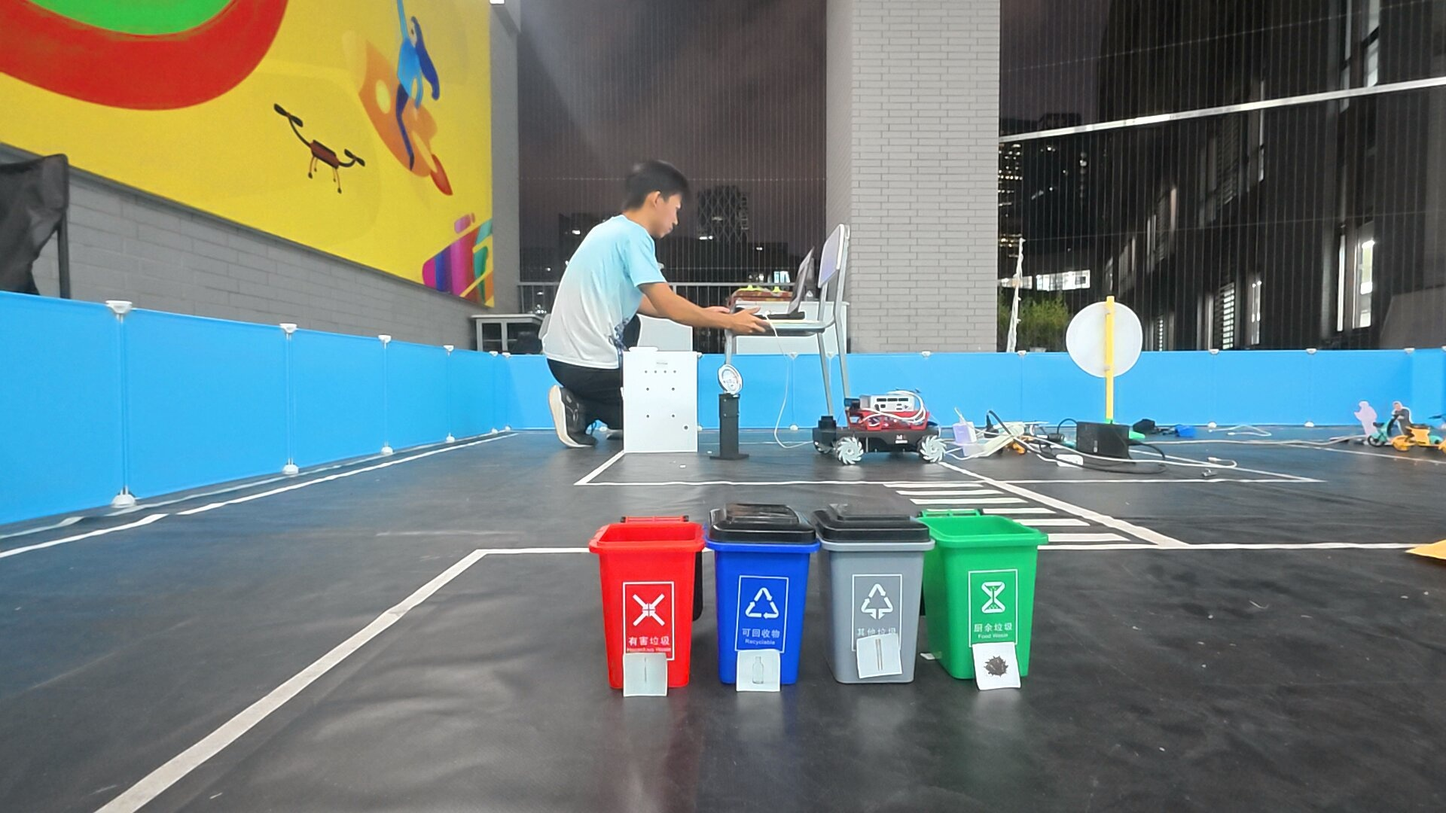food_trash: (975, 644, 1016, 685)
hazardous_trash: (625, 655, 665, 693)
other_trash: (858, 641, 896, 676)
recyclable_trash: (738, 650, 778, 689)
